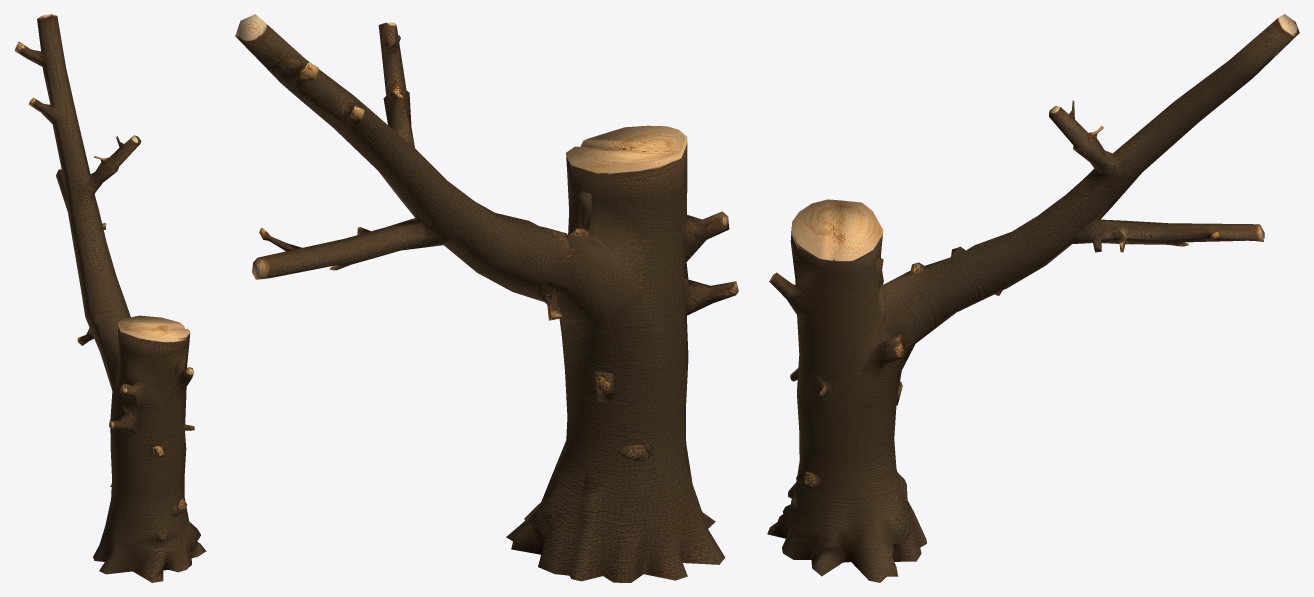
Rendered from GinkgoBranch.glb.
3 views of the same model, side by side, from view 1: azimuth 30°, elevation 25°; view 2: azimuth 150°, elevation 25°; view 3: azimuth 270°, elevation 25° (orthographic). The views are drawn at different scales.
Parts seen in each view (by area): view 1: tripo_node_87bde69e-139a-4d91-8eba-381c47218231; view 2: tripo_node_87bde69e-139a-4d91-8eba-381c47218231; view 3: tripo_node_87bde69e-139a-4d91-8eba-381c47218231.
Boxes of the visible parts, left/top/right/bottom form: tripo_node_87bde69e-139a-4d91-8eba-381c47218231: left=14, top=14, right=206, bottom=582; tripo_node_87bde69e-139a-4d91-8eba-381c47218231: left=235, top=14, right=738, bottom=582; tripo_node_87bde69e-139a-4d91-8eba-381c47218231: left=767, top=14, right=1299, bottom=582.
Bounding box in the file's own units: 0.3403 × 0.9995 × 0.8511.
1 material, 1 textured.
